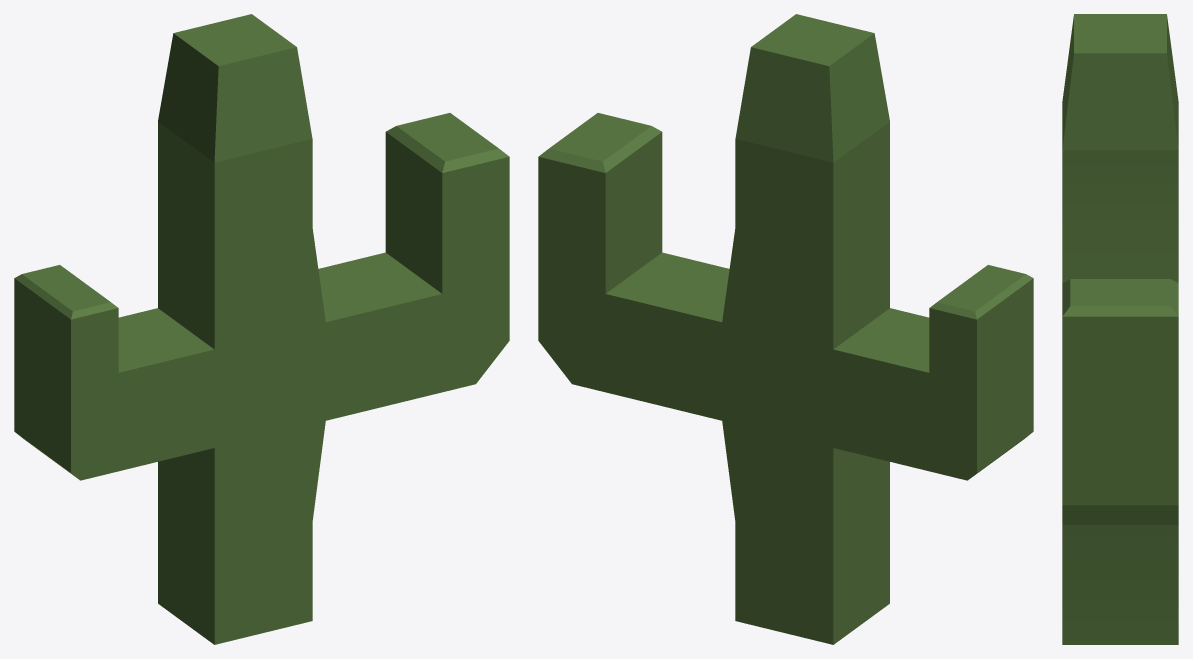
File: Cactes_0.fbx
The picture shows the model from 3 angles, left to right: view 1: azimuth 30°, elevation 25°; view 2: azimuth 150°, elevation 25°; view 3: azimuth 270°, elevation 25°; orthographic projection. The views are drawn at different scales.
Visible parts, largest first — view 1: pCube1; view 2: pCube1; view 3: pCube1.
Boxes of the visible parts, bbox=[...] form: pCube1: bbox=[14, 14, 509, 644]; pCube1: bbox=[538, 14, 1033, 644]; pCube1: bbox=[1062, 14, 1178, 644].
Bounding box in the file's own units: 11.26 × 14.03 × 2.52.
